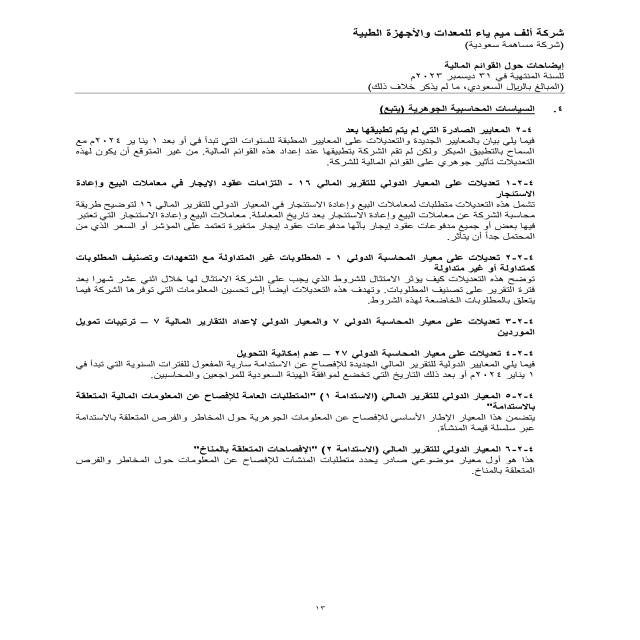notes: (441, 61, 568, 70)
text: (51, 100, 571, 476)
